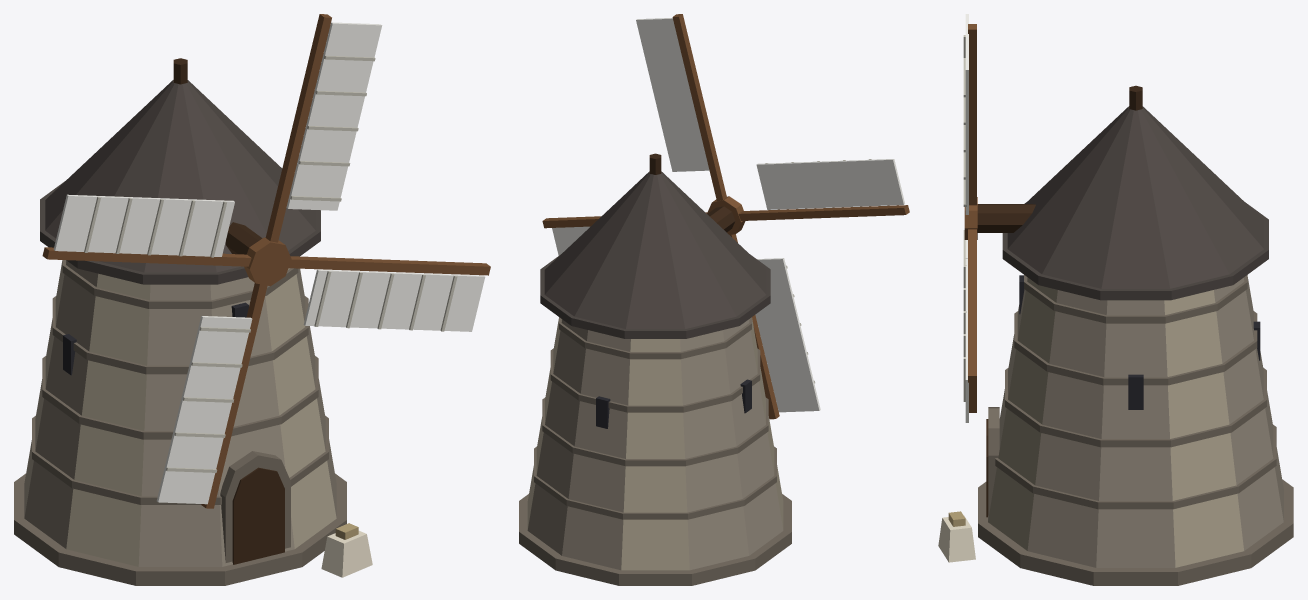
The model's file is windmill-2x2-t1.glb.
3 renders of one model, left to right at view 1: azimuth 30°, elevation 25°; view 2: azimuth 150°, elevation 25°; view 3: azimuth 270°, elevation 25°, orthographic. The views are drawn at different scales.
Visible parts, largest first — view 1: windmill-2x2-t1; view 2: windmill-2x2-t1; view 3: windmill-2x2-t1.
Boxes of the visible parts, x1=… form: windmill-2x2-t1: x1=14, y1=14, x2=490, y2=585; windmill-2x2-t1: x1=519, y1=14, x2=909, y2=585; windmill-2x2-t1: x1=938, y1=14, x2=1293, y2=585.
Bounding box in the file's own units: 1.9 × 2.25 × 1.39.
1 material, 1 textured.
